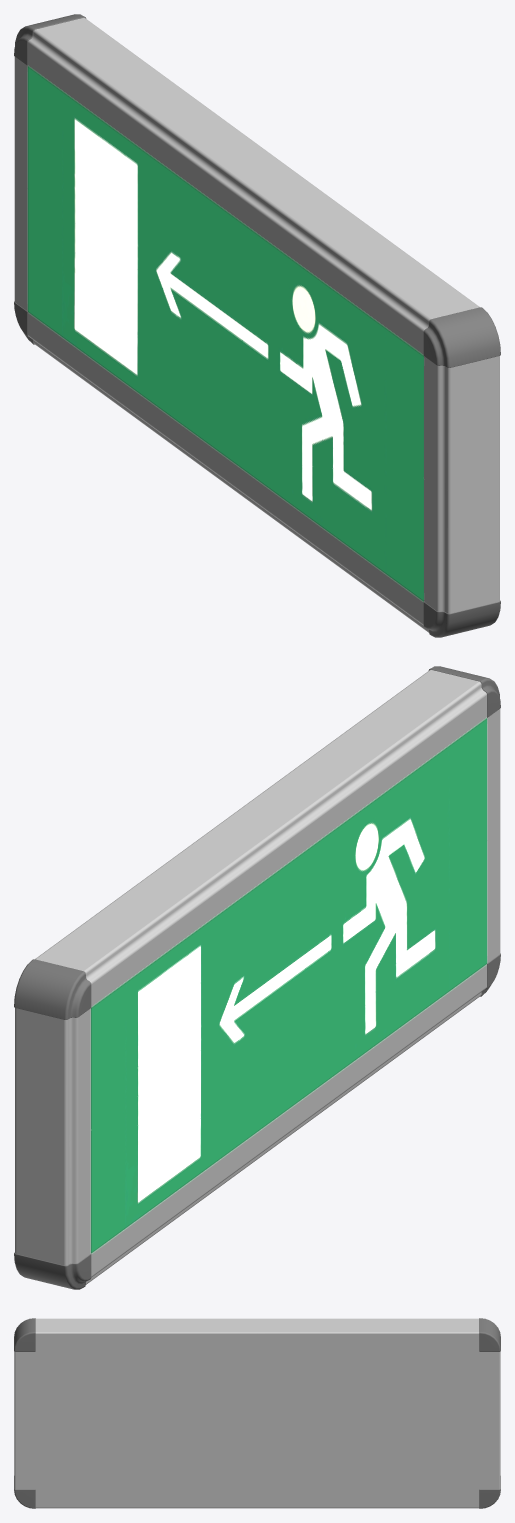
File: exit_sign.glb
3 renders of one model, top to bottom at view 1: azimuth 30°, elevation 25°; view 2: azimuth 150°, elevation 25°; view 3: azimuth 270°, elevation 25°, orthographic. The views are drawn at different scales.
Parts seen in each view (by area): view 1: exit_sign; view 2: exit_sign; view 3: exit_sign.
Boxes of the visible parts, x1=… form: exit_sign: x1=14, y1=14, x2=500, y2=637; exit_sign: x1=14, y1=666, x2=500, y2=1289; exit_sign: x1=14, y1=1318, x2=500, y2=1508.
Size of the model in its own units: 0.0789 by 0.4015 by 1.
Materials: 1 (1 with a texture image).
